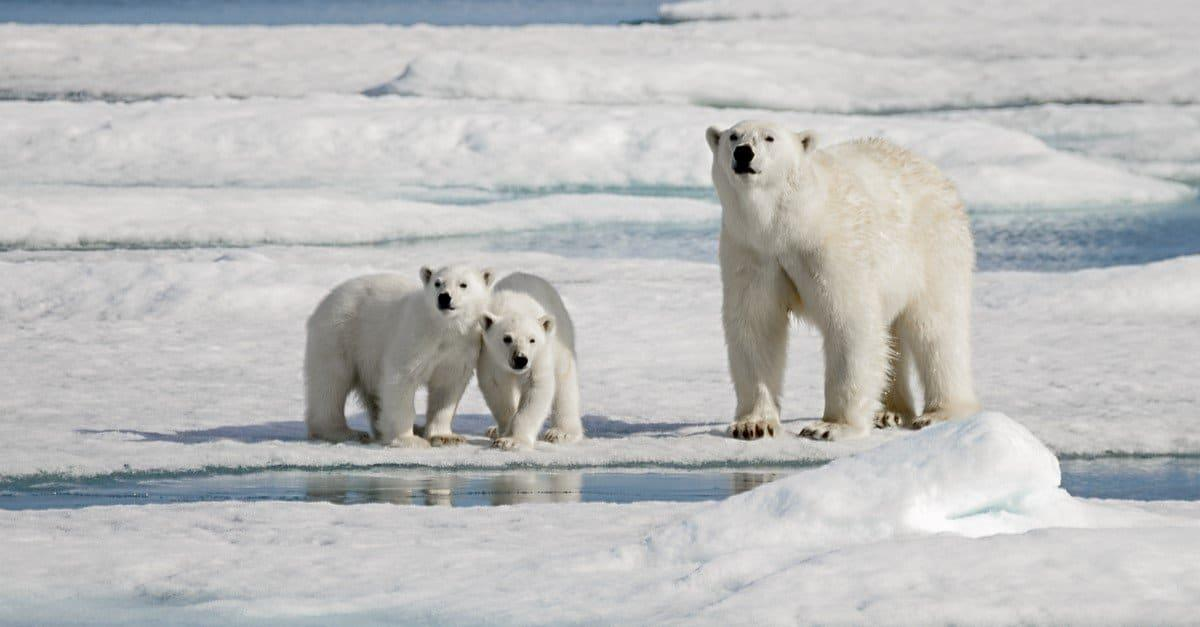goalkeeper: (706, 121, 975, 438), (305, 266, 581, 447)
